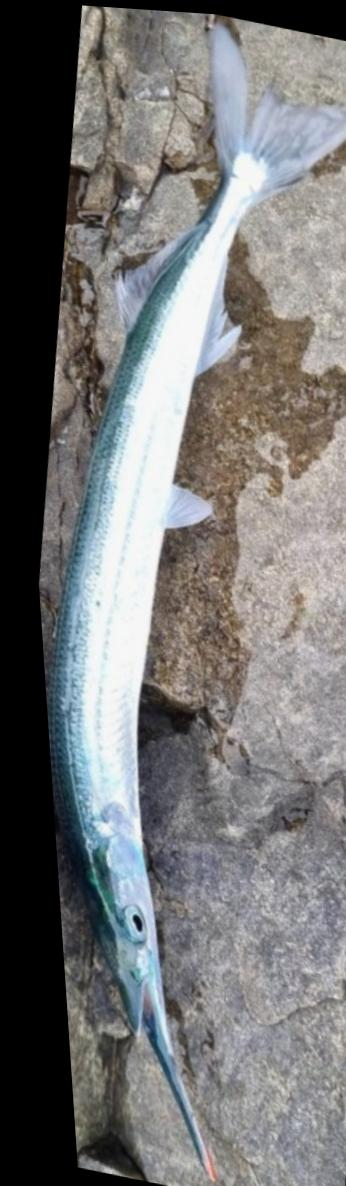fish: (38, 12, 346, 1165)
